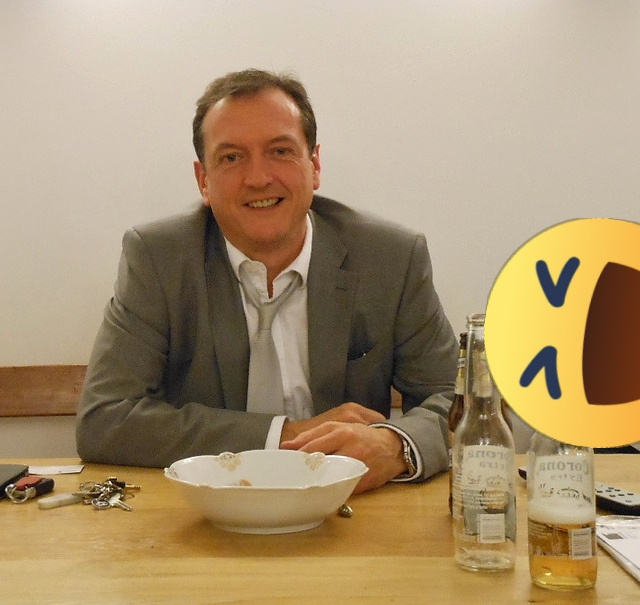haha: (484, 218, 640, 448)
